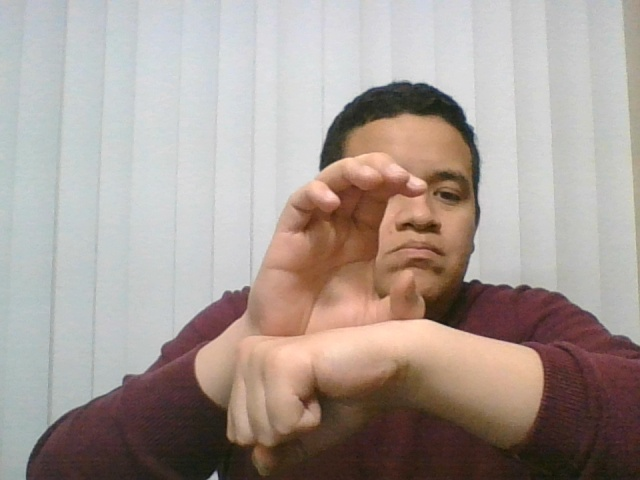Church: (207, 145, 450, 478)
